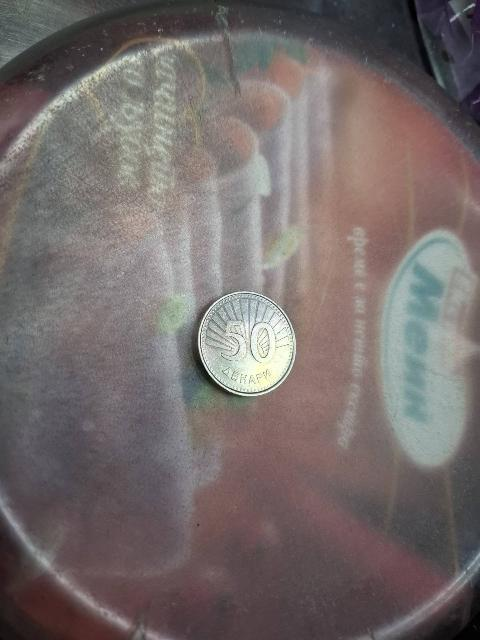50_coin: (198, 290, 300, 401)
